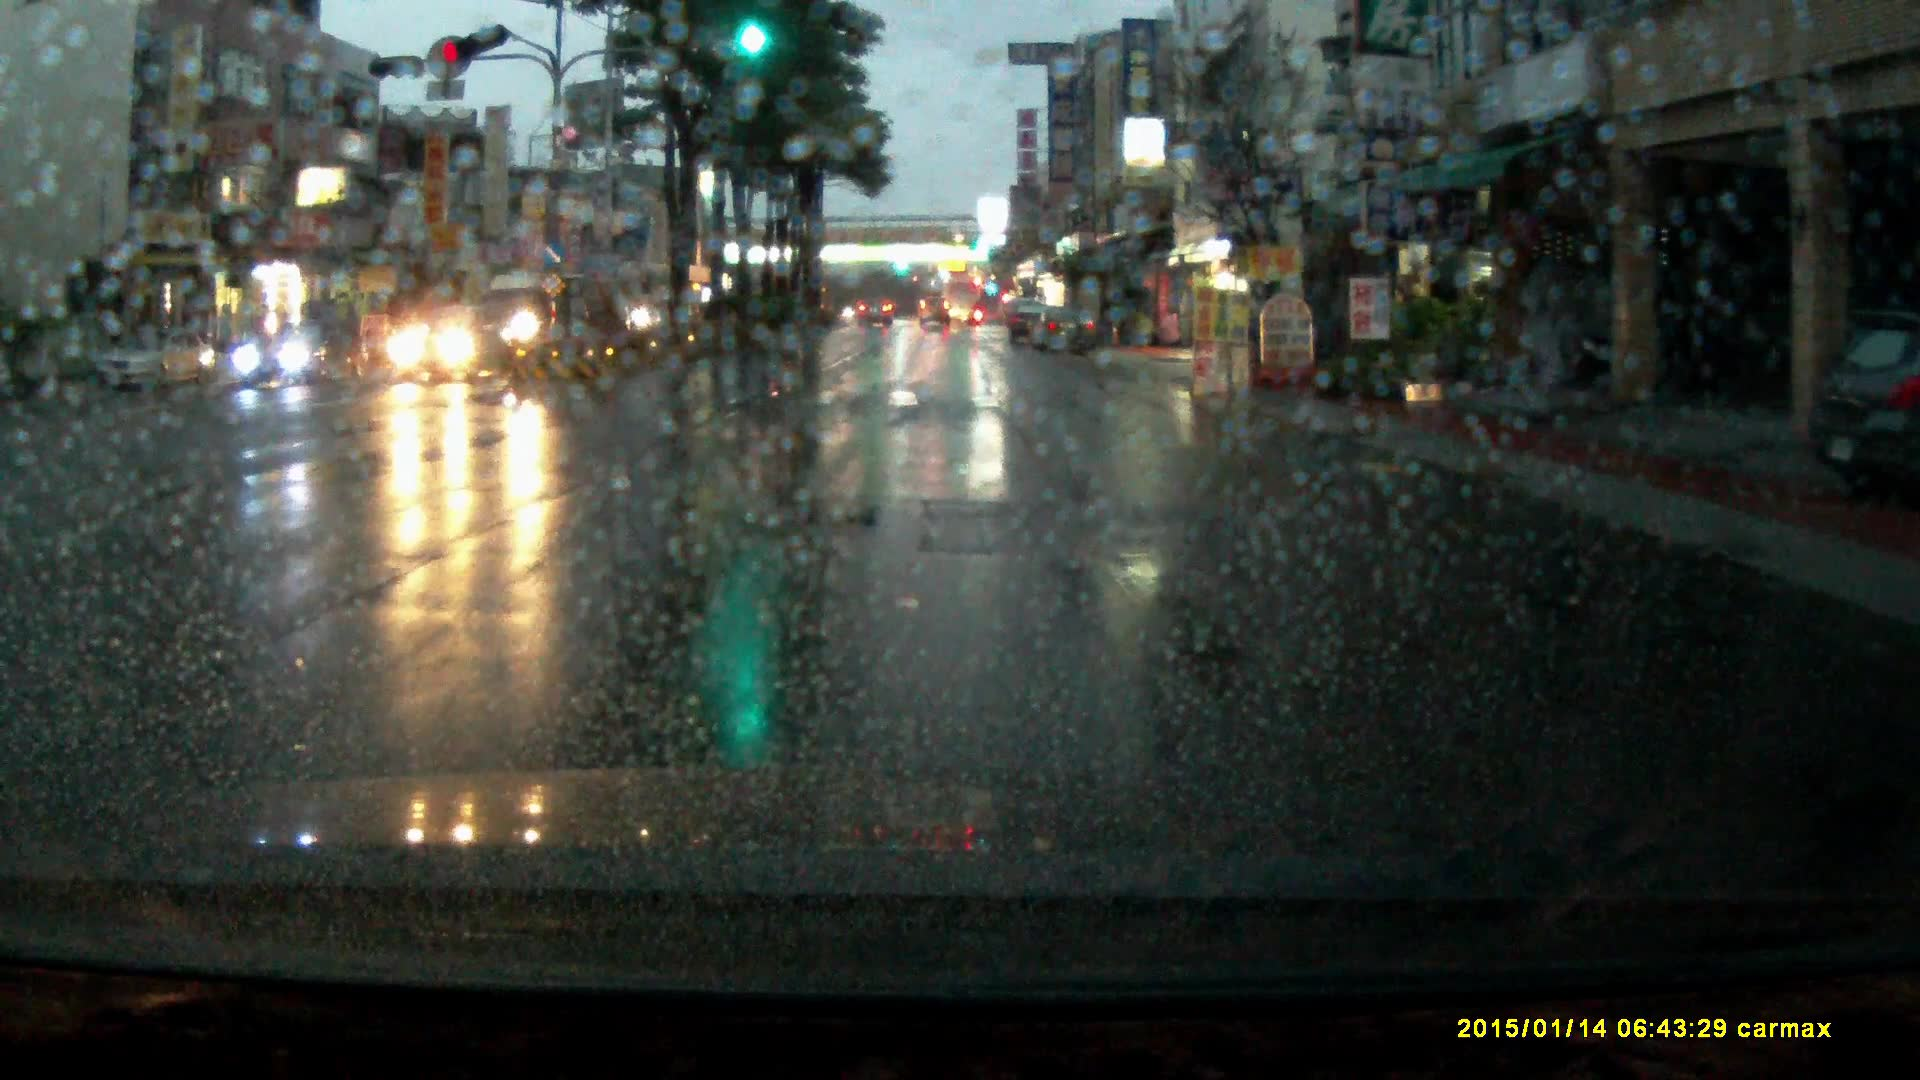vehicle: (1807, 311, 1920, 491), (472, 272, 591, 367), (231, 320, 368, 392), (393, 313, 512, 392), (94, 330, 220, 404), (1035, 306, 1105, 353), (1009, 303, 1055, 351), (948, 280, 986, 328), (858, 294, 895, 324), (919, 299, 951, 332)
